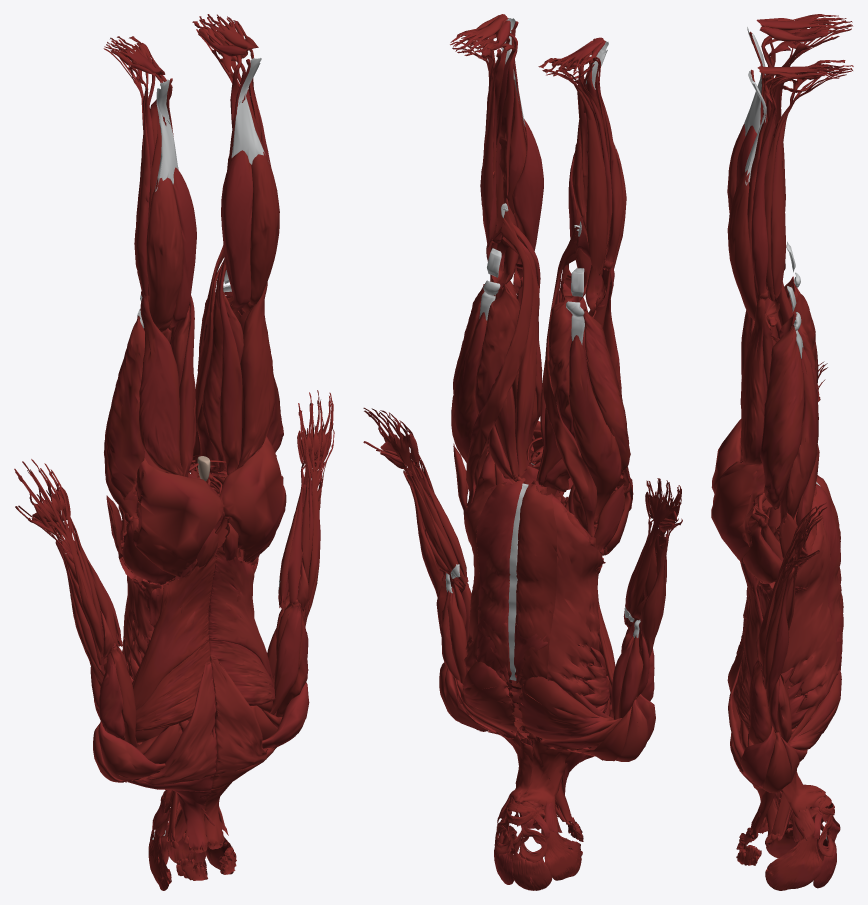
File: muscular.glb
The picture shows the model from 3 angles, left to right: view 1: azimuth 30°, elevation 25°; view 2: azimuth 150°, elevation 25°; view 3: azimuth 270°, elevation 25°; orthographic projection.
Parts seen in each view (by area): view 1: MOD_latissimus_dorsi_r, FJ1418, MOD_latissimus_dorsi_l, FJ1395, FJ1418M, FJ1442, FJ1394, FJ1395M, FJ1397M, FJ1520M, FJ1520, FJ1394M (+32 smaller); view 2: FJ1452, MOD_rectus_abdominis_r, MOD_rectus_abdominis_l, FJ1433, FJ1434M, FJ1464, FJ1442, FJ1434, FJ1439, FJ1443M, FJ1433M, FJ1421M (+46 smaller); view 3: FJ1452M, FJ1442M, FJ1418M, FJ1395M, FJ1433M, FJ1394M, FJ1410M, MOD_latissimus_dorsi_l, MOD_temporalis_l, FJ1439M, MOD_rectus_abdominis_l, FJ1464M (+42 smaller).
Part boxes in pixels (left/top/right/bottom): MOD_latissimus_dorsi_r: left=122, top=547, right=217, bottom=739; FJ1418: left=132, top=458, right=223, bottom=577; MOD_latissimus_dorsi_l: left=208, top=545, right=275, bottom=705; FJ1395: left=139, top=291, right=183, bottom=476; FJ1418M: left=219, top=436, right=286, bottom=560; FJ1442: left=105, top=315, right=144, bottom=500; FJ1394: left=146, top=177, right=183, bottom=328; FJ1395M: left=237, top=282, right=275, bottom=468; FJ1397M: left=221, top=150, right=253, bottom=311; FJ1520M: left=210, top=651, right=272, bottom=774; FJ1520: left=134, top=662, right=217, bottom=785; FJ1394M: left=250, top=152, right=279, bottom=305; FJ1452: left=547, top=497, right=605, bottom=695; MOD_rectus_abdominis_r: left=515, top=480, right=557, bottom=685; MOD_rectus_abdominis_l: left=476, top=478, right=525, bottom=682; FJ1433: left=569, top=335, right=621, bottom=523; FJ1434M: left=466, top=208, right=532, bottom=506; FJ1464: left=518, top=676, right=619, bottom=740; FJ1442: left=583, top=308, right=630, bottom=474; FJ1434: left=542, top=227, right=597, bottom=537; FJ1439: left=558, top=66, right=607, bottom=273; FJ1443M: left=475, top=283, right=520, bottom=413; FJ1433M: left=451, top=312, right=487, bottom=486; FJ1421M: left=502, top=236, right=539, bottom=476; FJ1452M: left=757, top=501, right=838, bottom=712; FJ1442M: left=760, top=325, right=804, bottom=509; FJ1418M: left=711, top=461, right=764, bottom=563; FJ1395M: left=740, top=292, right=767, bottom=464; FJ1433M: left=775, top=347, right=818, bottom=536; FJ1394M: left=727, top=170, right=771, bottom=332; FJ1410M: left=751, top=77, right=794, bottom=295; MOD_latissimus_dorsi_l: left=733, top=562, right=763, bottom=727; MOD_temporalis_l: left=765, top=833, right=822, bottom=890; FJ1439M: left=771, top=79, right=807, bottom=298; MOD_rectus_abdominis_l: left=759, top=484, right=843, bottom=674; FJ1464M: left=788, top=670, right=841, bottom=750.
Bounding box in the file's own units: 637 × 1603 × 247.
